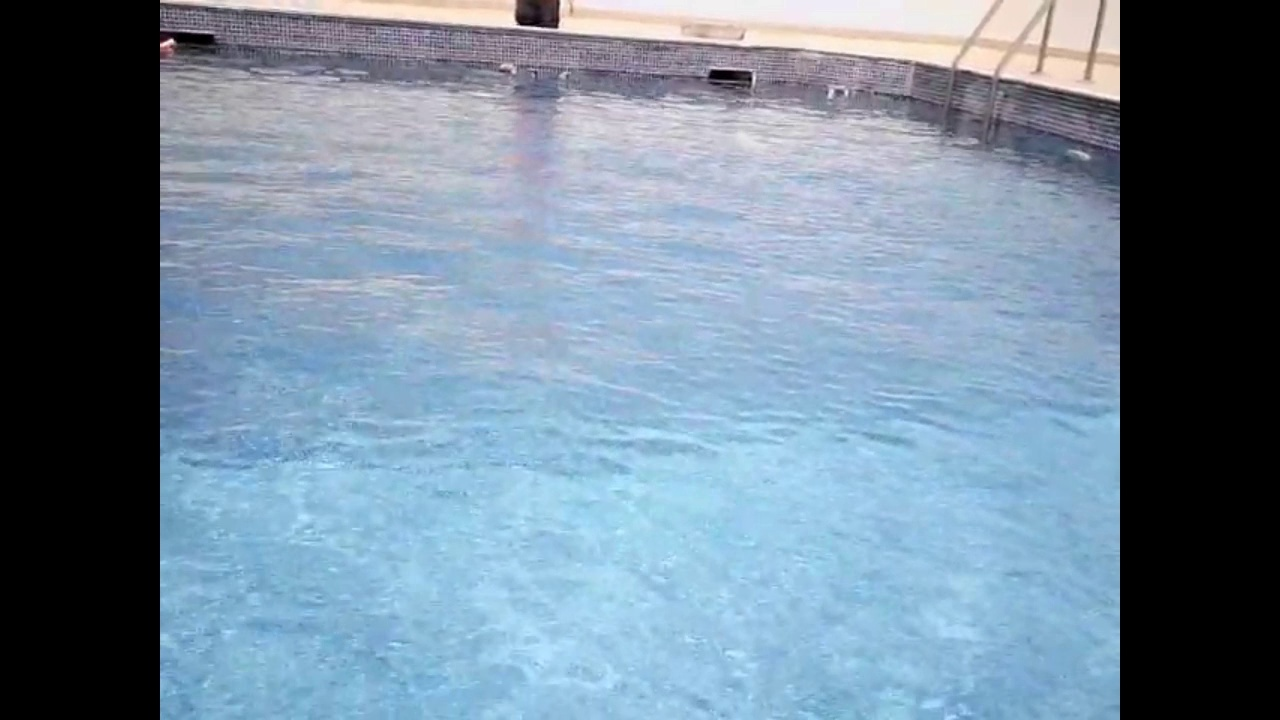debris: (824, 80, 860, 99), (495, 59, 523, 82), (161, 35, 182, 63), (526, 66, 542, 95), (552, 67, 576, 86), (820, 80, 838, 101)
